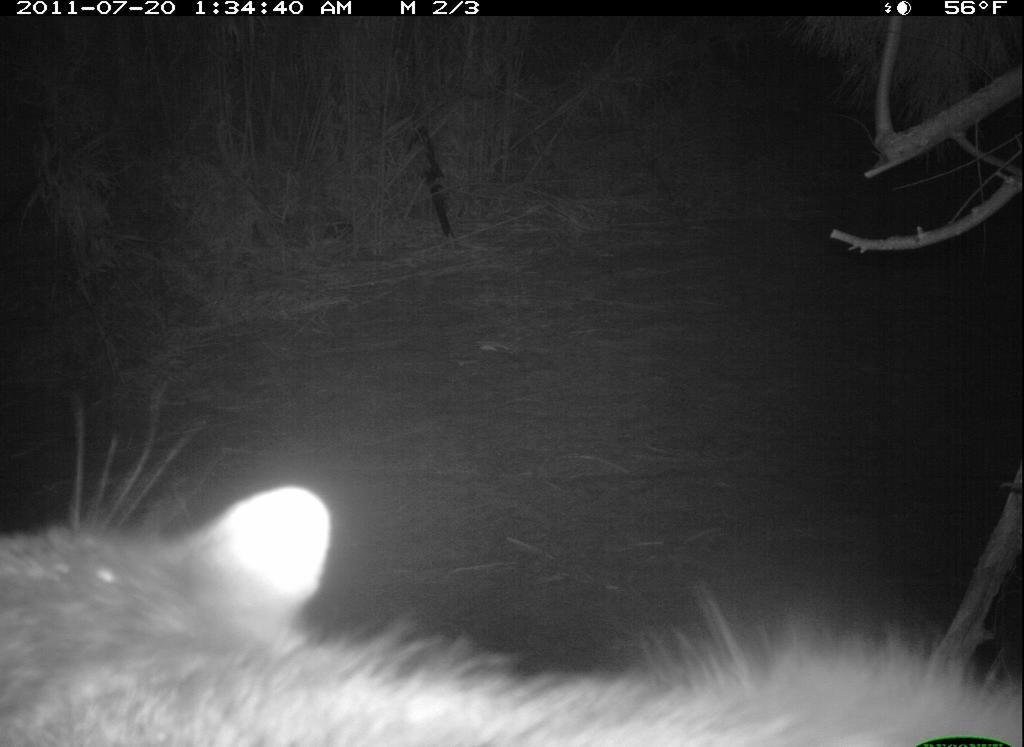raccoon: (8, 496, 1023, 742)
